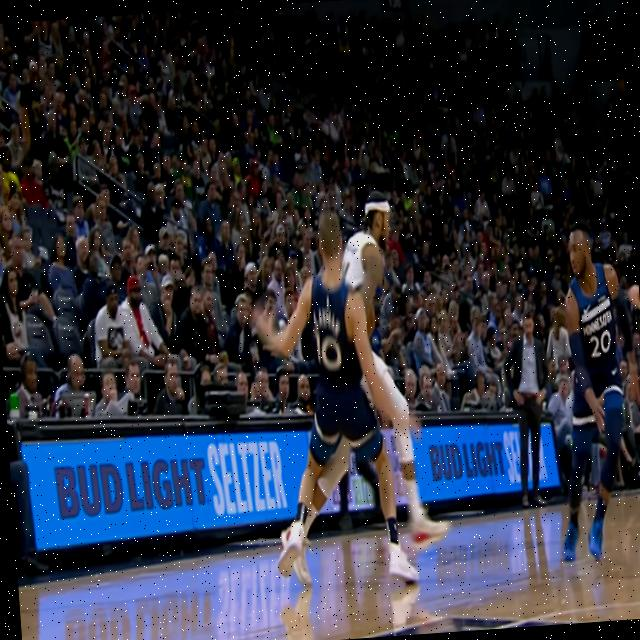Foul: (289, 186, 444, 592)
